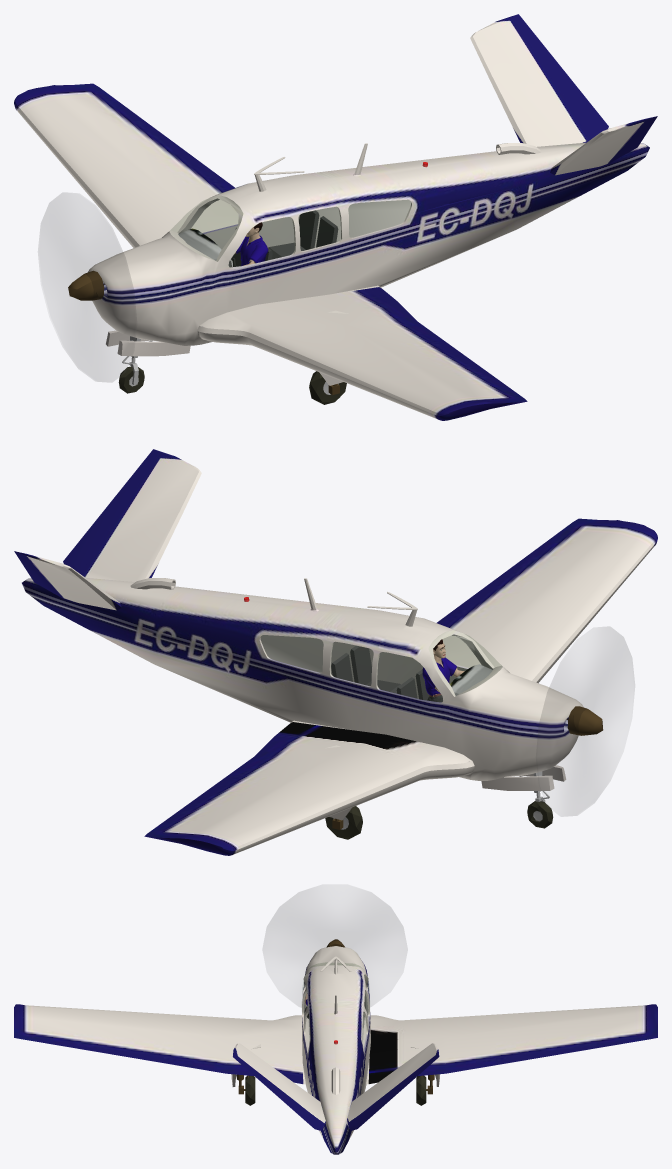
Rendered from beechcraft_bonanza_g36.glb.
The picture shows the model from 3 angles, top to bottom: view 1: azimuth 30°, elevation 25°; view 2: azimuth 150°, elevation 25°; view 3: azimuth 270°, elevation 25°; orthographic projection. The views are drawn at different scales.
Parts seen in each view (by area): view 1: Beech_cuer-FACES (×12), VINT-FACES, KRESLO03-FACES; view 2: Beech_cuer-FACES (×12), VINT-FACES, KRESLO02-FACES; view 3: Beech_cuer-FACES (×6), VINT-FACES.
Boxes of the visible parts, x1=… form: Beech_cuer-FACES (×12): x1=14, y1=14, x2=657, y2=420; VINT-FACES: x1=38, y1=193, x2=136, y2=381; KRESLO03-FACES: x1=268, y1=210, x2=319, y2=259; Beech_cuer-FACES (×12): x1=14, y1=449, x2=657, y2=855; VINT-FACES: x1=536, y1=627, x2=634, y2=816; KRESLO02-FACES: x1=350, y1=645, x2=400, y2=693; Beech_cuer-FACES (×6): x1=14, y1=946, x2=657, y2=1154; VINT-FACES: x1=263, y1=885, x2=407, y2=1006.
Bounding box in the file's own units: 7.67 × 2.76 × 9.93.
Materials: 61 (8 with a texture image).
